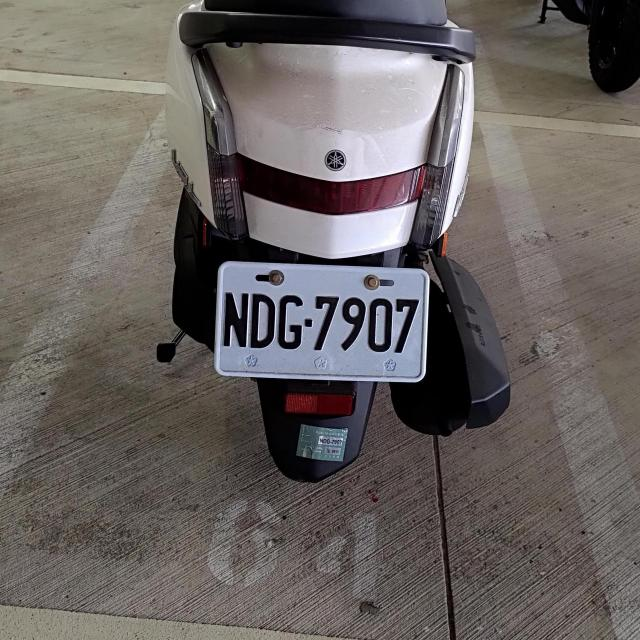W: (211, 256, 432, 387)
